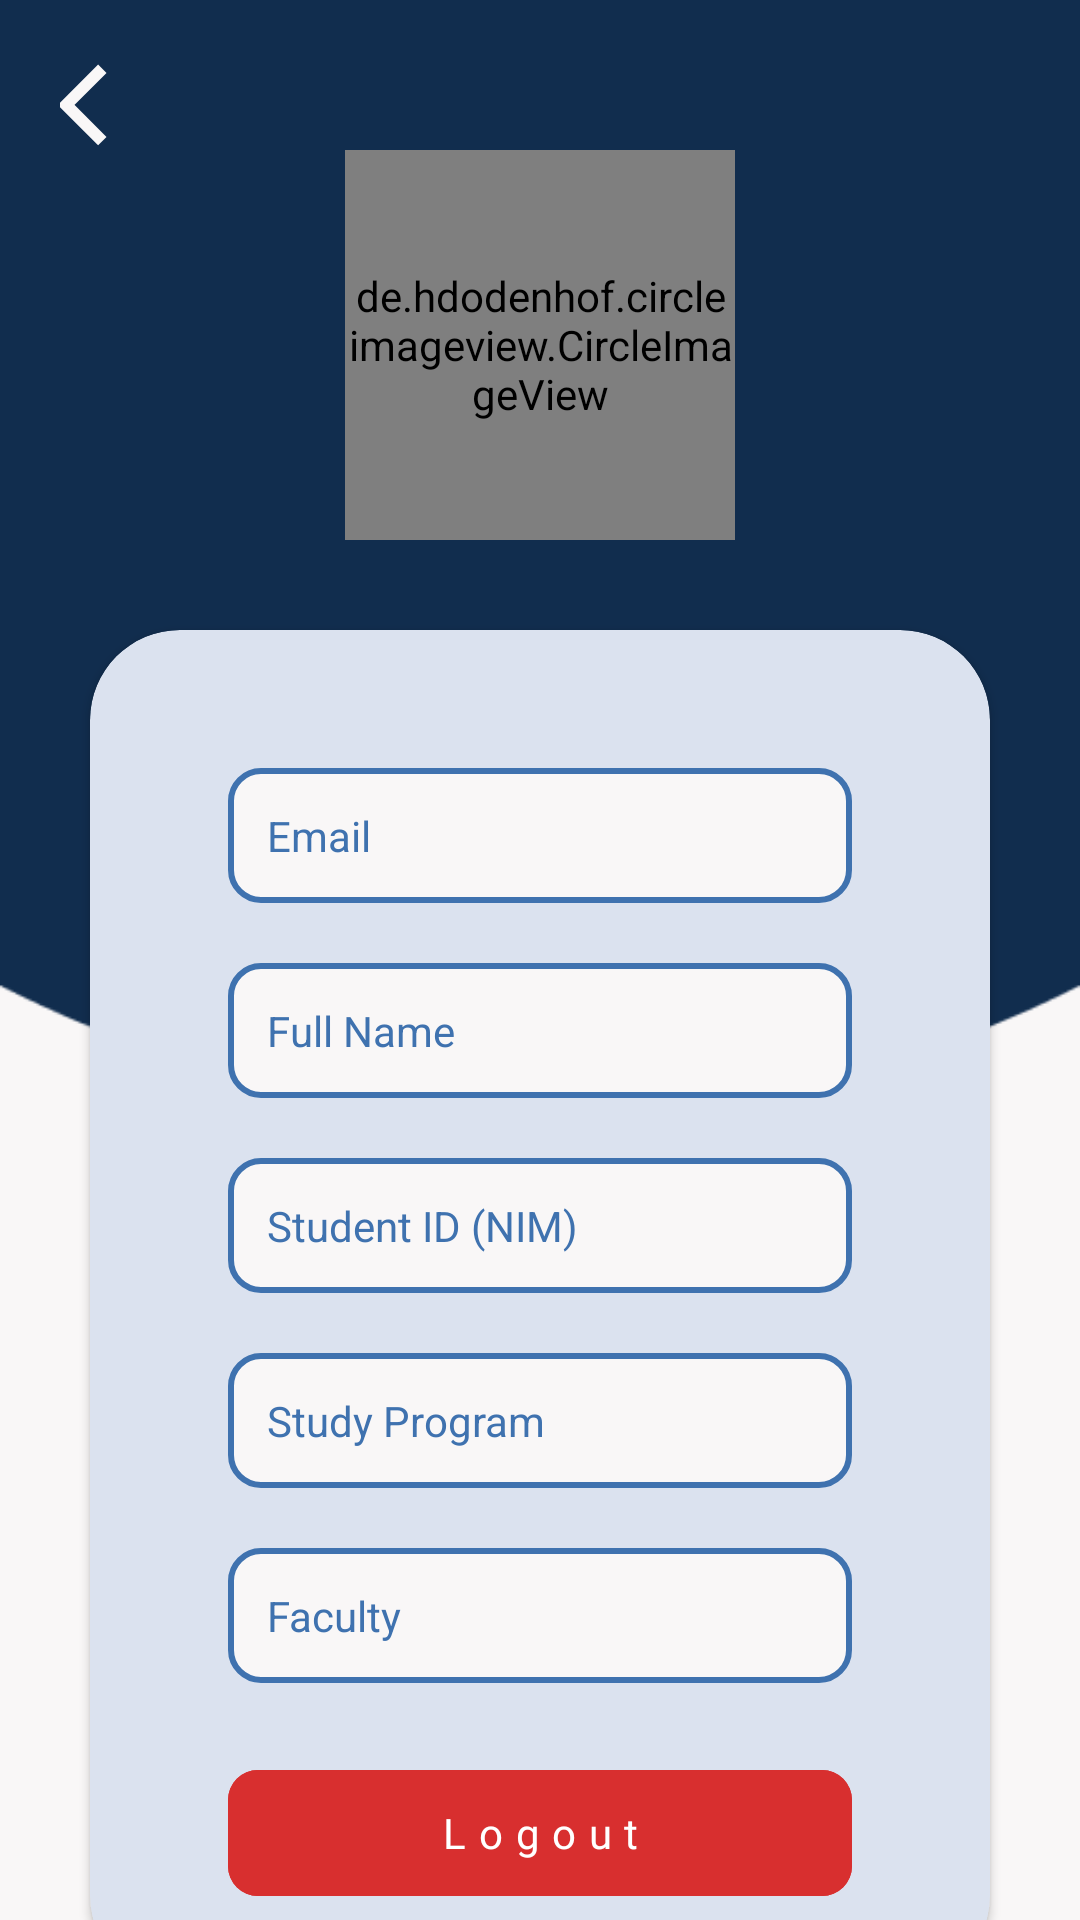

Icons on this 1080w x 1920h Android screen, each with its box as (x1, y1, x2, y2):
arrow back: (60, 64, 107, 145)
